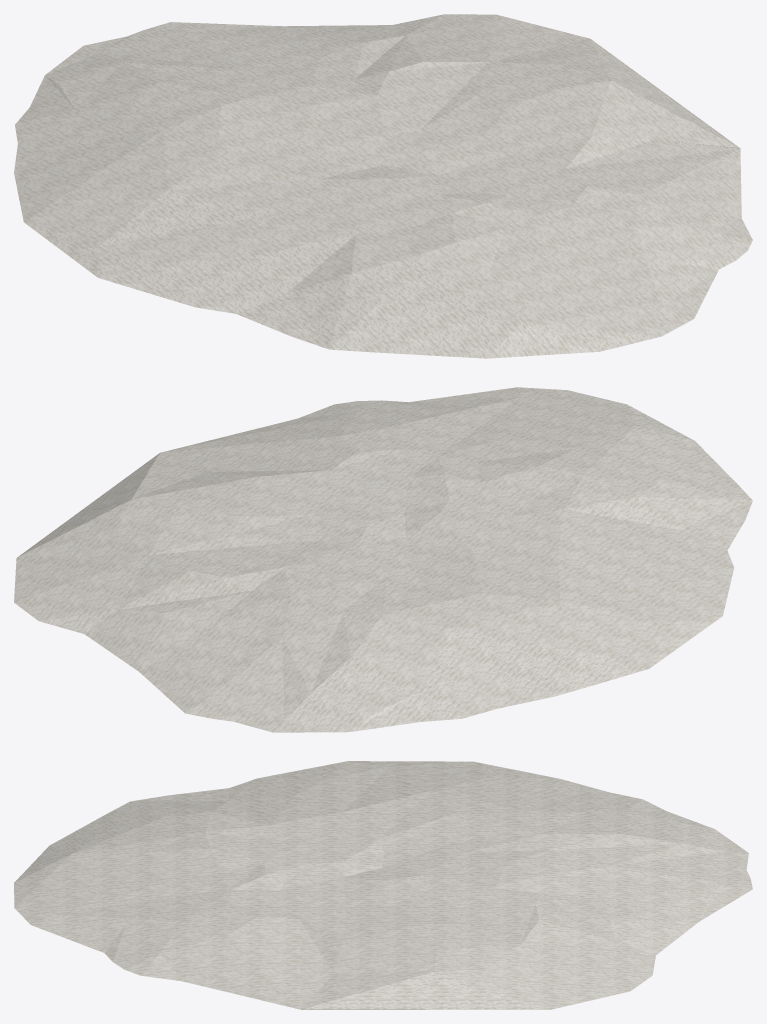
Rendered from finishSand.obj.
3 views of the same model, one above another, from view 1: azimuth 30°, elevation 25°; view 2: azimuth 150°, elevation 25°; view 3: azimuth 270°, elevation 25° (orthographic). The views are drawn at different scales.
Parts seen in each view (by area): view 1: MeshSandmountain1; view 2: MeshSandmountain1; view 3: MeshSandmountain1.
Boxes of the visible parts, box(x1,y1,x2,y2) form: MeshSandmountain1: box(14, 14, 752, 358); MeshSandmountain1: box(14, 387, 752, 732); MeshSandmountain1: box(14, 761, 752, 1009).
Bounding box in the file's own units: 128 × 5.81 × 161.
